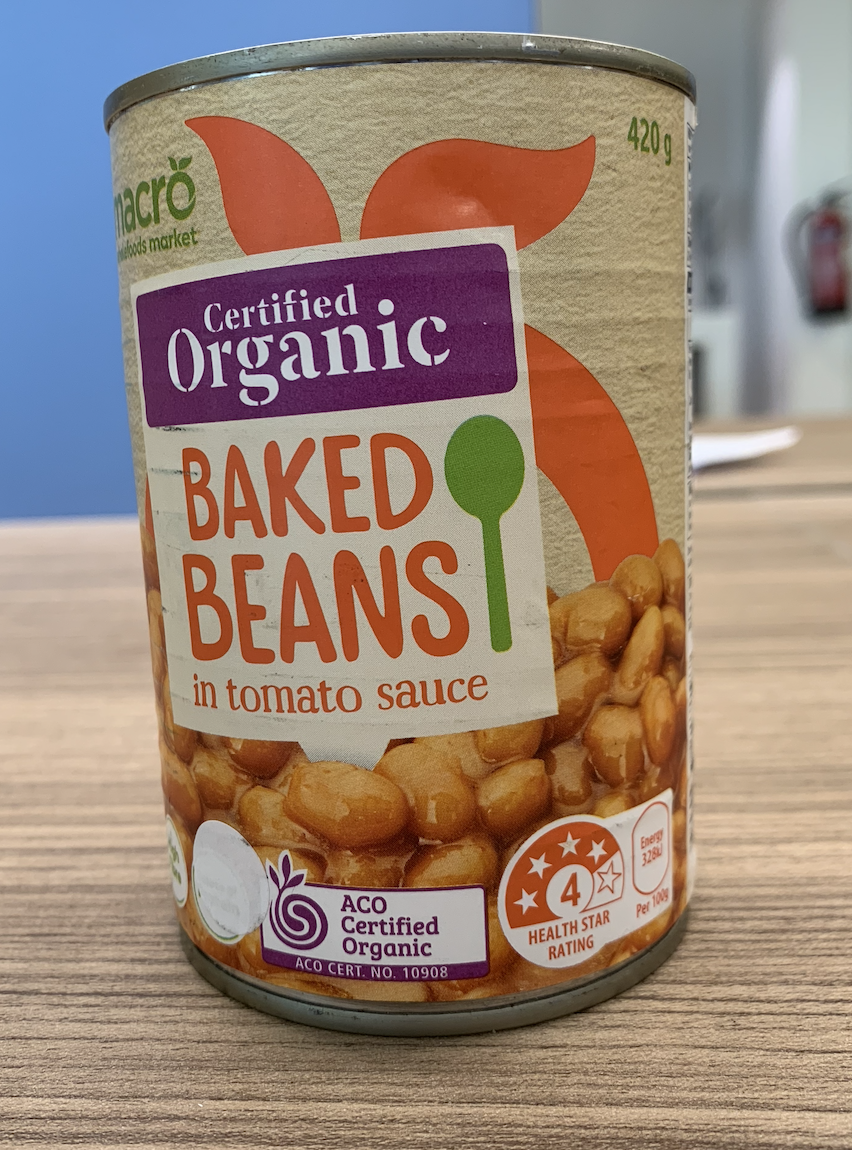Baked beans_450g: (164, 98, 681, 989)
